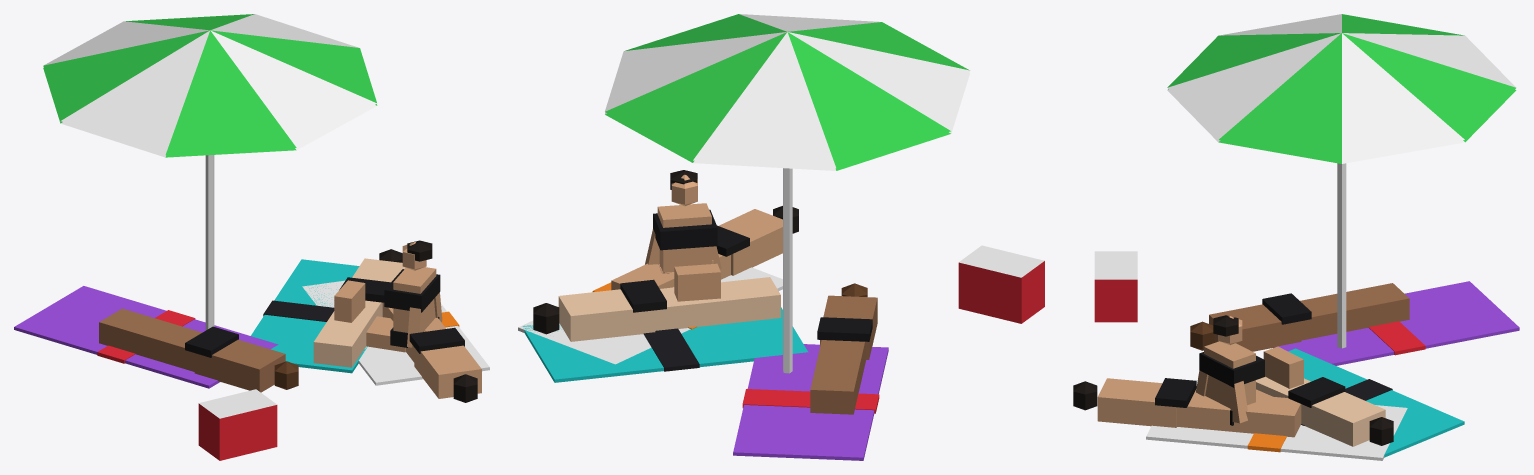
File: nudista_grupo_4.obj
The picture shows the model from 3 angles, left to right: view 1: azimuth 30°, elevation 25°; view 2: azimuth 150°, elevation 25°; view 3: azimuth 270°, elevation 25°; orthographic projection. The views are drawn at different scales.
Parts seen in each view (by area): view 1: nudista_grupo_4; view 2: nudista_grupo_4; view 3: nudista_grupo_4.
Part boxes in pixels (bbox=[...]): nudista_grupo_4: bbox=[14, 14, 489, 460]; nudista_grupo_4: bbox=[518, 14, 1044, 460]; nudista_grupo_4: bbox=[1073, 14, 1519, 460].
Size of the model in its own units: 3.26 by 2.6 by 3.32.
